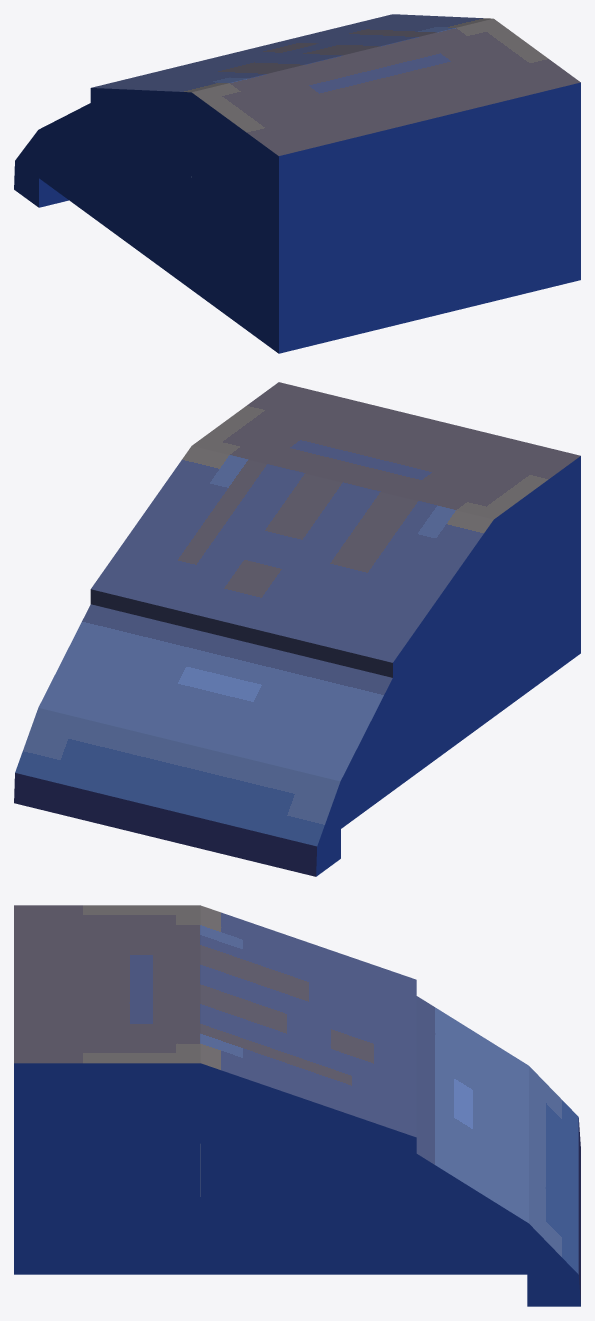
Rendered from df21_general_carport.obj.
3 renders of one model, top to bottom at view 1: azimuth 30°, elevation 25°; view 2: azimuth 150°, elevation 25°; view 3: azimuth 270°, elevation 25°, orthographic. The views are drawn at different scales.
Parts seen in each view (by area): view 1: cuboid_selection_selection_selection_selection_selection_selecti; view 2: cuboid_selection_selection_selection_selection_selection_selecti; view 3: cuboid_selection_selection_selection_selection_selection_selecti.
Boxes of the visible parts, bbox=[...] form: cuboid_selection_selection_selection_selection_selection_selecti: bbox=[14, 14, 580, 353]; cuboid_selection_selection_selection_selection_selection_selecti: bbox=[14, 382, 580, 876]; cuboid_selection_selection_selection_selection_selection_selecti: bbox=[14, 905, 580, 1306].
Size of the model in its own units: 1 by 0.7188 by 1.52.
